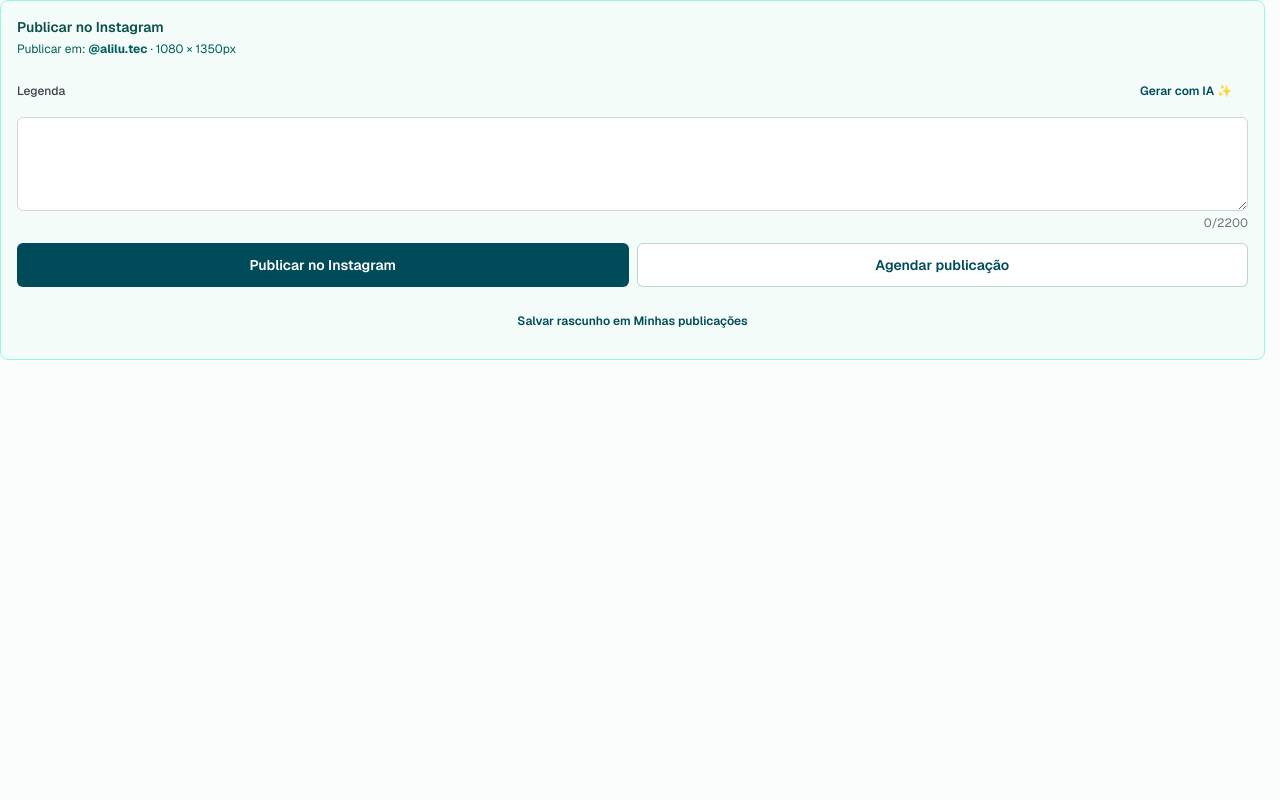
Test: PublicationComposerPanel › prévia + agendar: envia a arte e a foto original ao storage e agenda com fuso
Expected: the text "@alilu.tec" is shown, [89,41,147,57]
Type "Promo 🚀" into the text box labelled "Legenda".
click(632, 164); type("Promo 🚀")  # box [17,117,1248,211]
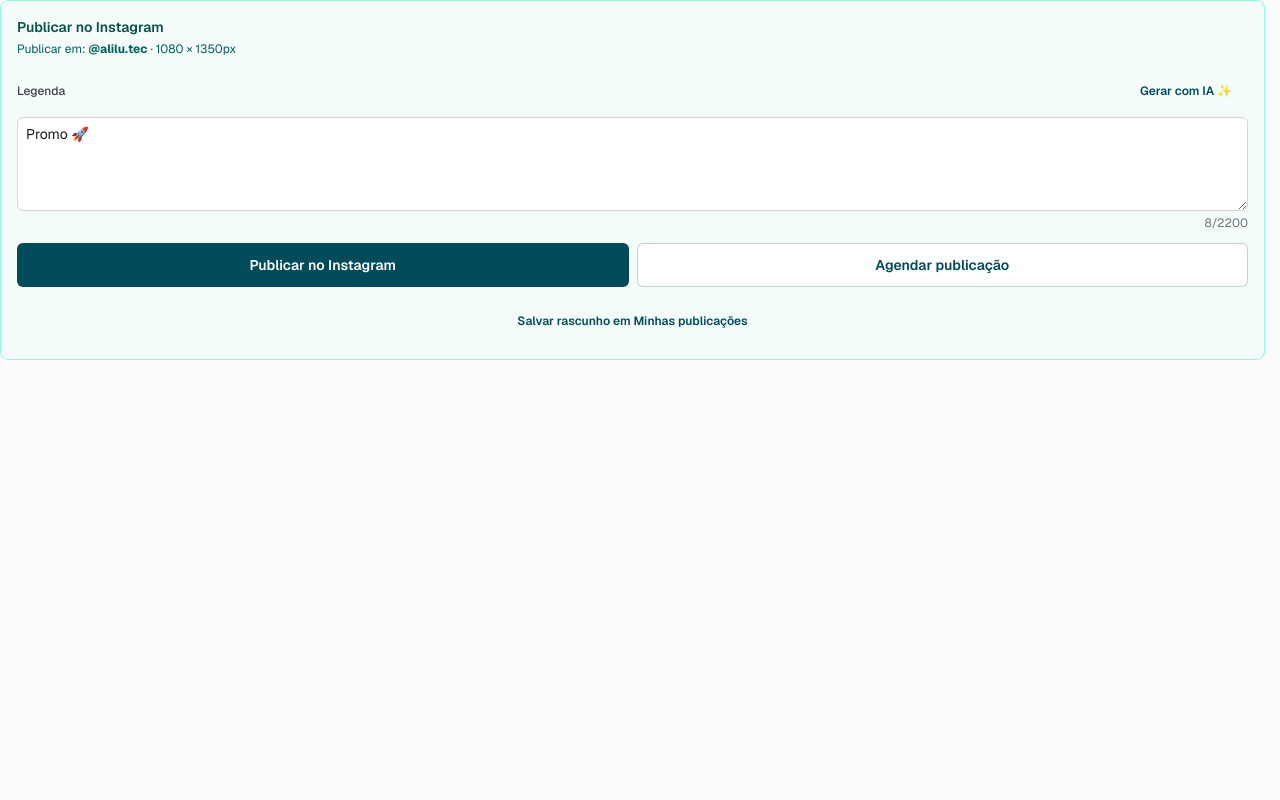
Click the button "Agendar publicação".
click(942, 265)  # box [636,243,1248,287]
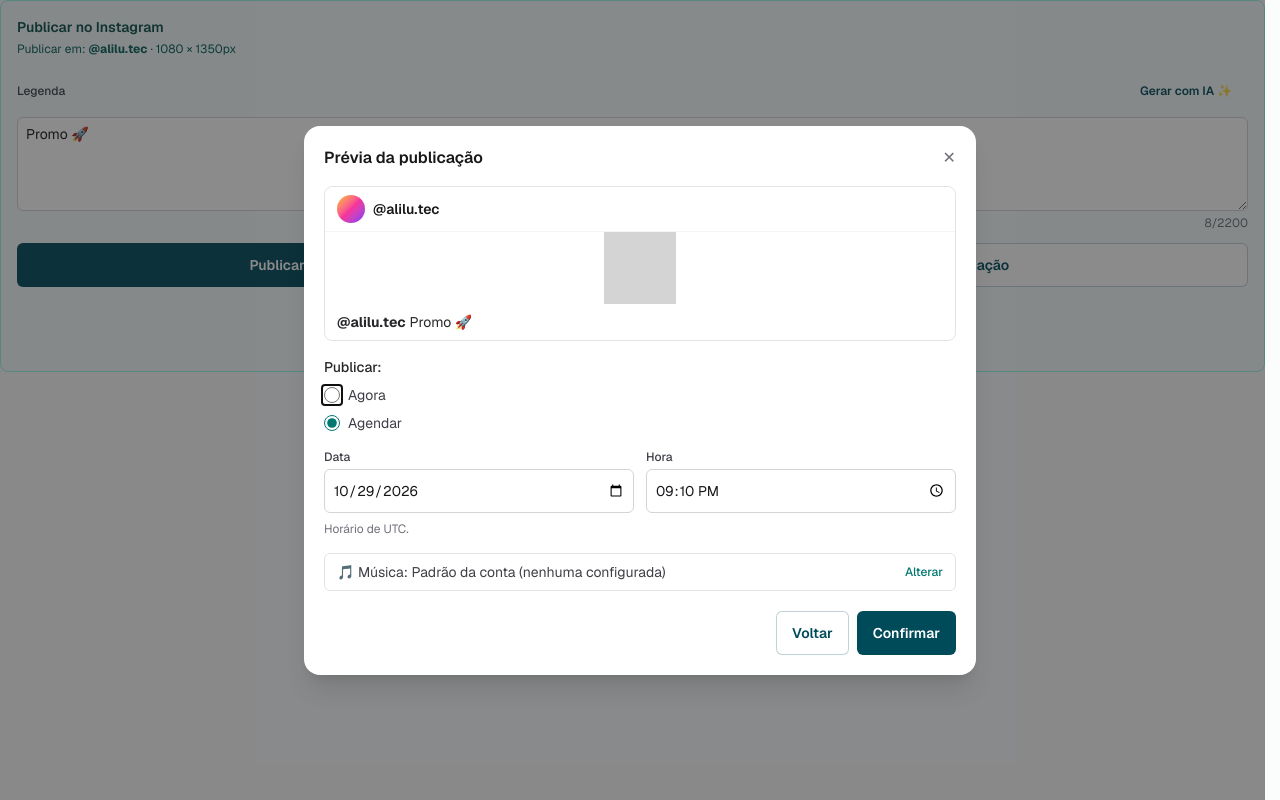
Expected: the 1st text "@alilu.tec" is shown, [373,198,440,218]
Expected: the text "Promo 🚀" is shown, [410,312,472,330]
Expected: the radio button labelled "Agendar" is checked, [324,414,340,430]
Type "2099-09-24" into the date field labelled "Data".
click(479, 490); type("2099-09-24")  # box [324,468,634,512]
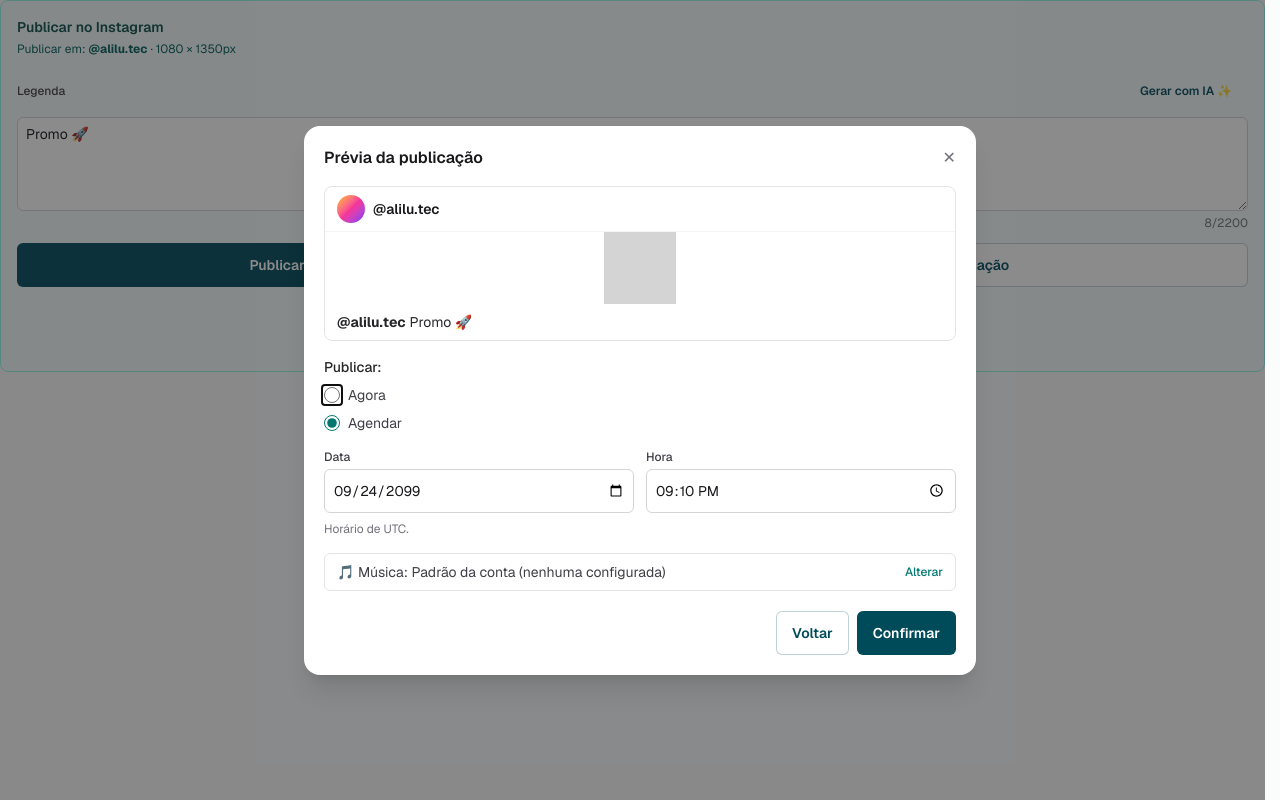
Replace the text in the time field labelled "Hora" with "18:30" at {"x": 801, "y": 490}, box [646,468,956,512]
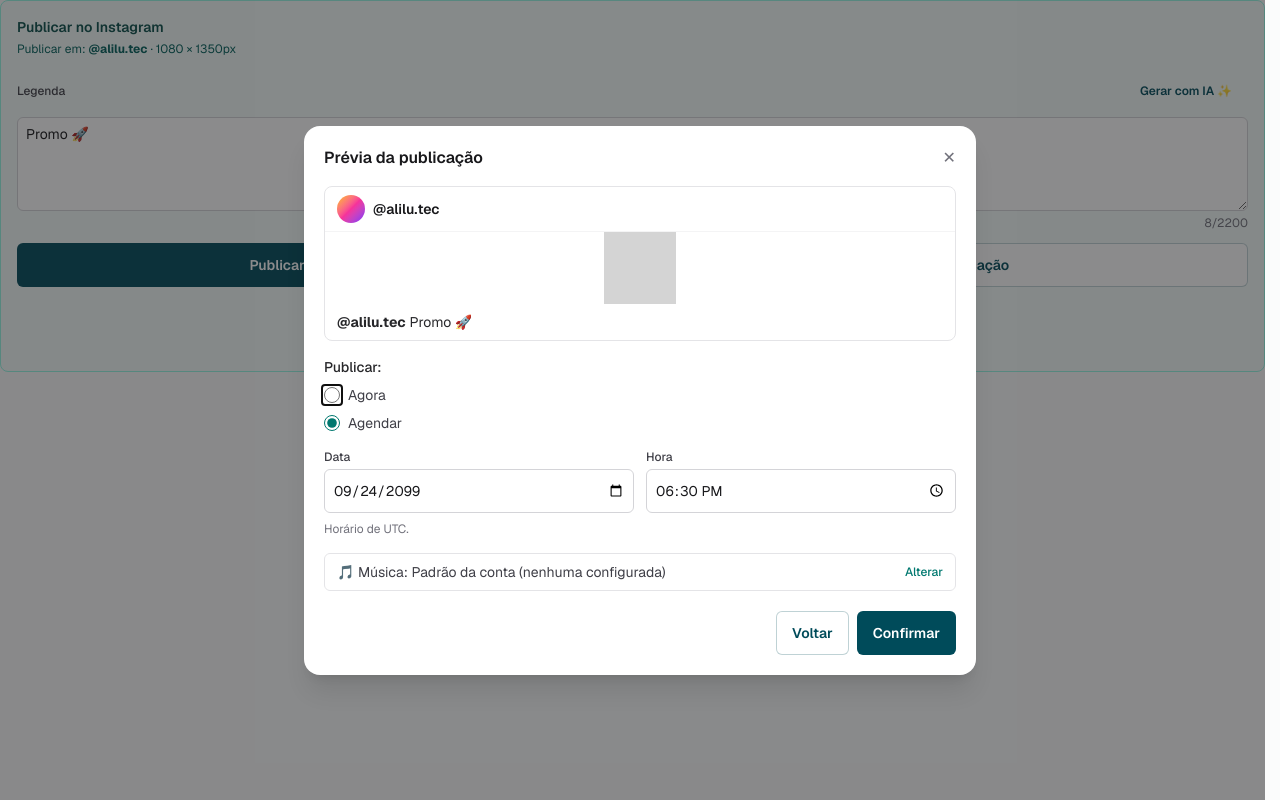
Click the button "Confirmar".
click(906, 632)  # box [857,610,956,654]
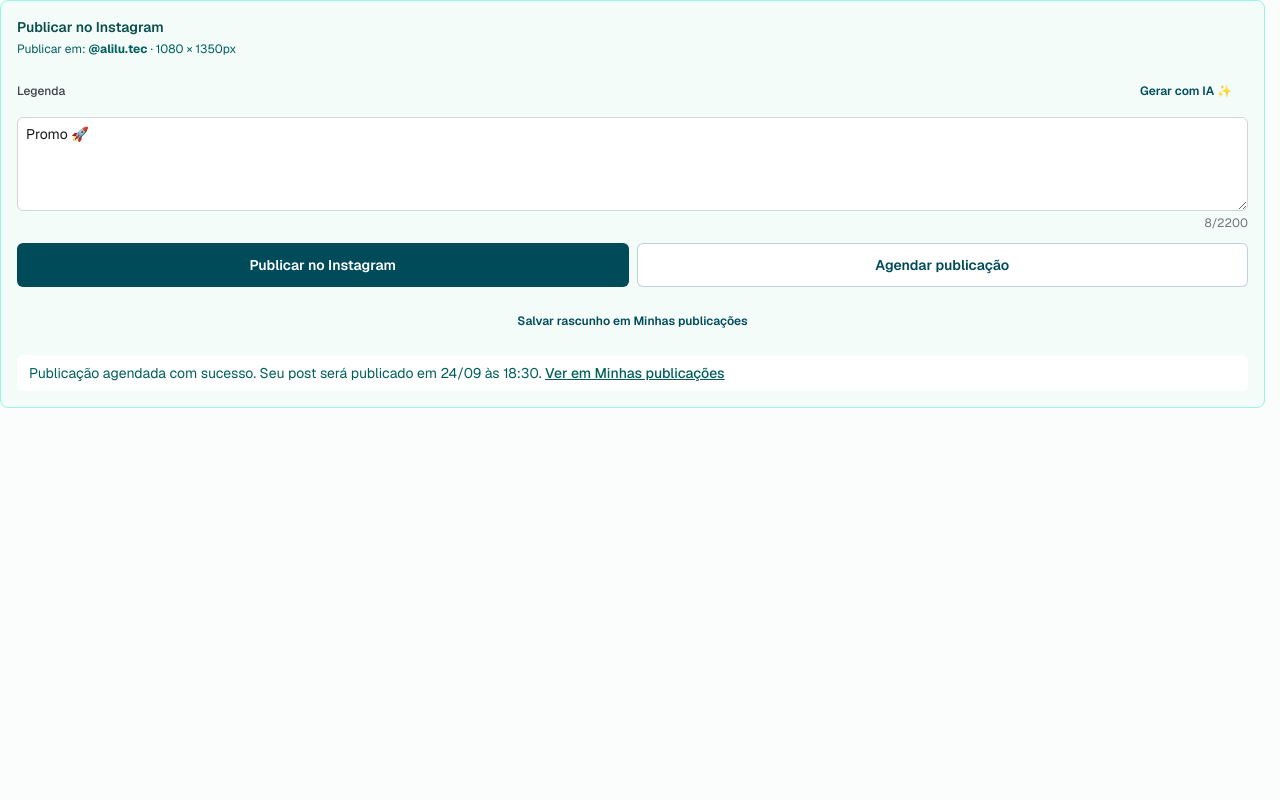
Expected: the text "Publicação agendada com sucesso. Seu post será publicado em 24/09 às 18:30." is shown, [29,364,542,382]
